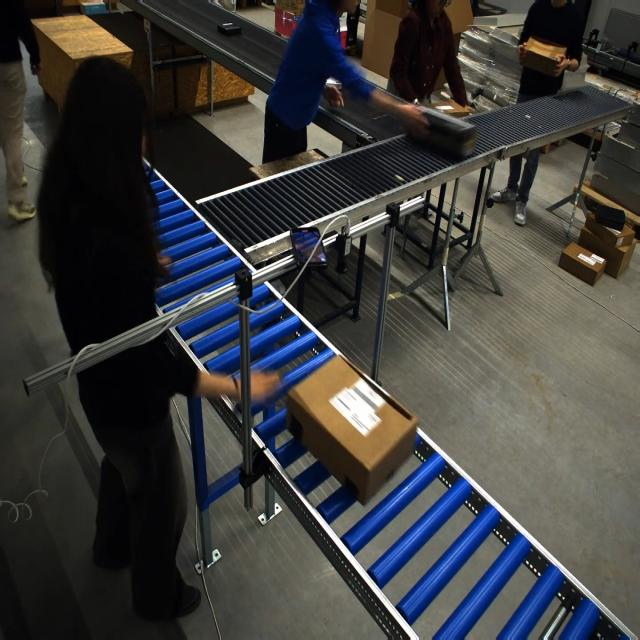box: (294, 357, 408, 500), (520, 36, 566, 77), (430, 101, 471, 118)
product: (216, 22, 242, 36), (325, 77, 342, 90)
